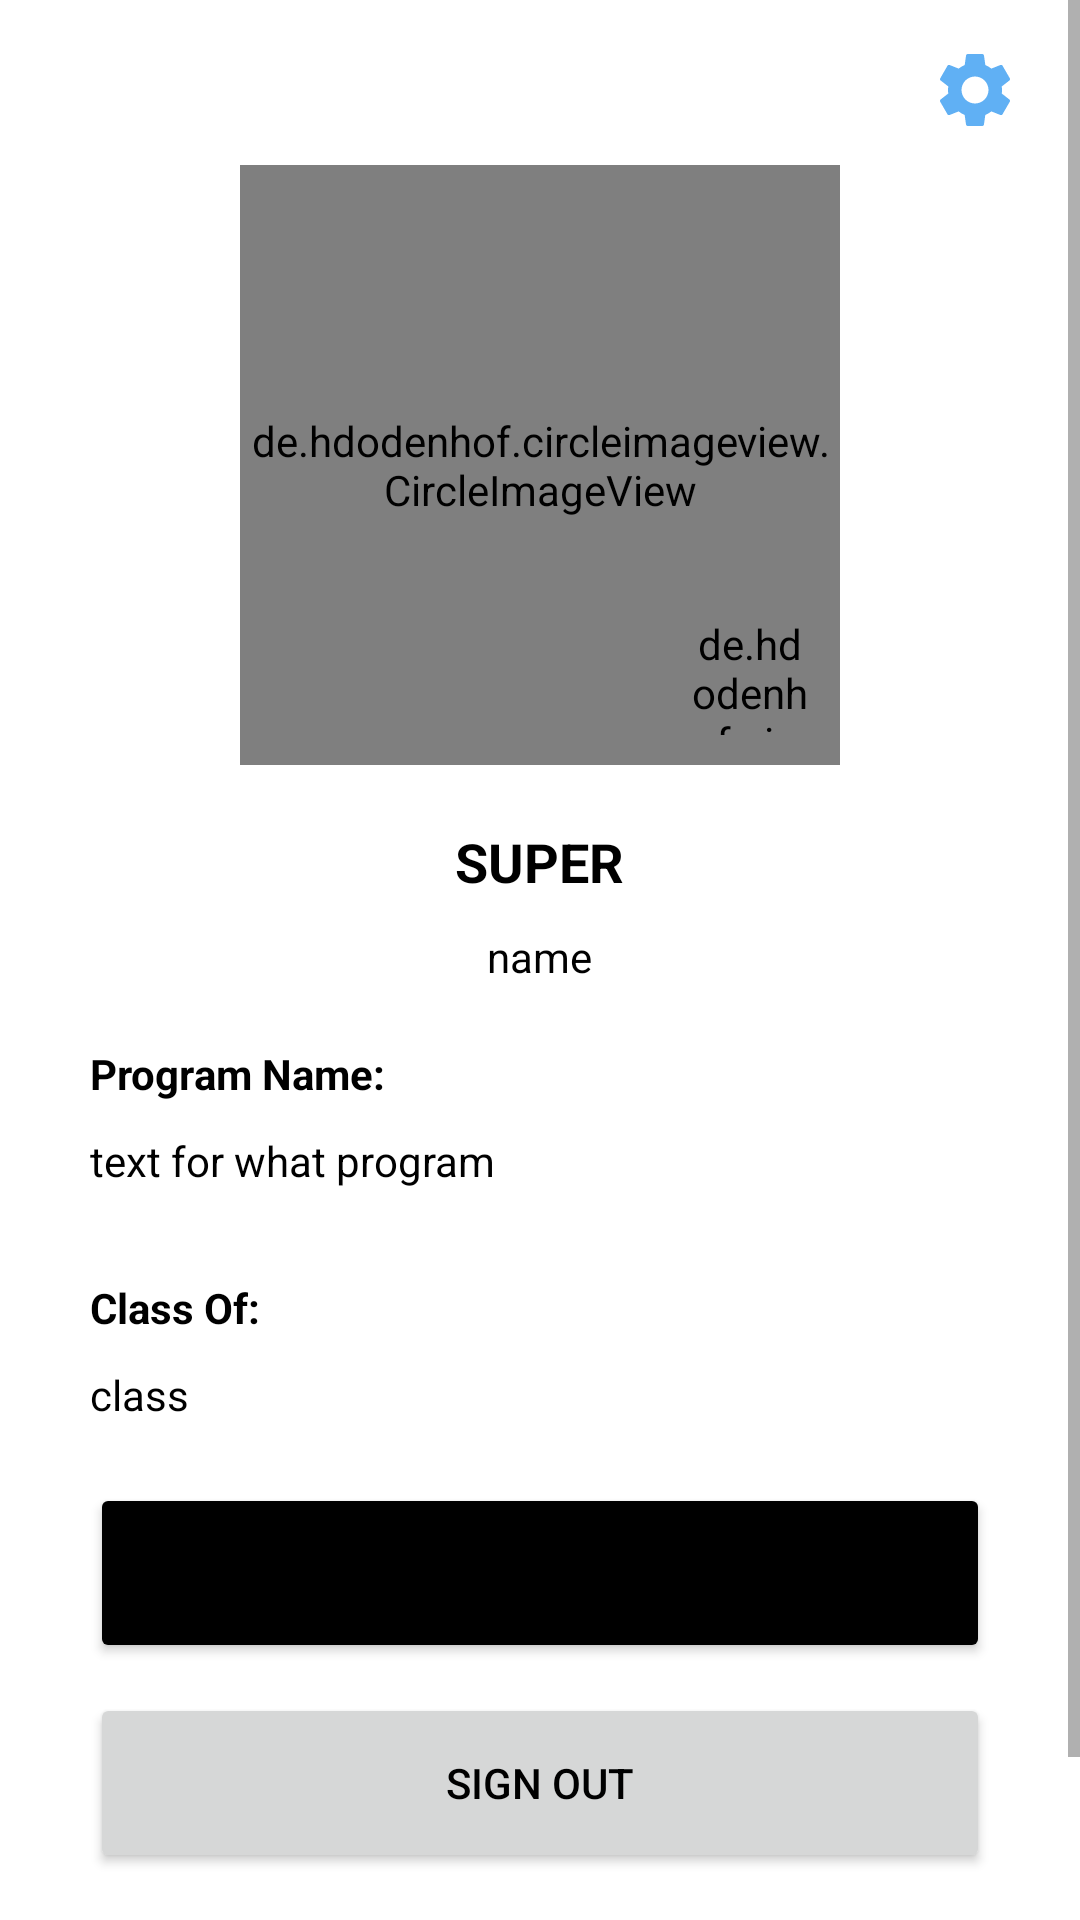

Named icons in this screenshot (1080*1920) and their centers, (x=x, y=y):
settings: (x=975, y=90)
